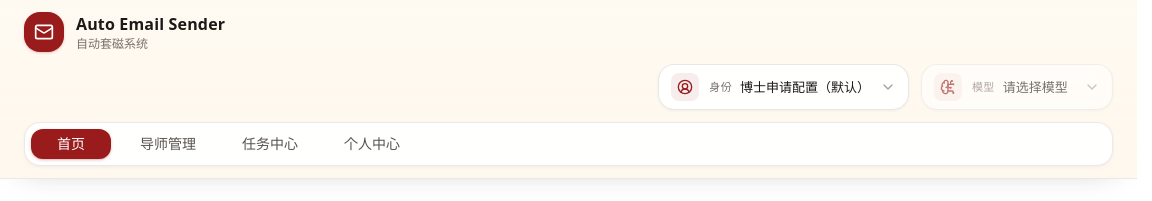
Test: TopNavBar identity labels › uses the profile name in the identity selector
The image size is (1152, 201).
Check: the text "博士申请配置（默认）" is shown, box top-left (740, 77), bottom-right (870, 97)
Click the button "身份 博士申请配置（默认）".
click(784, 87)  # box top-left (658, 64), bottom-right (909, 110)
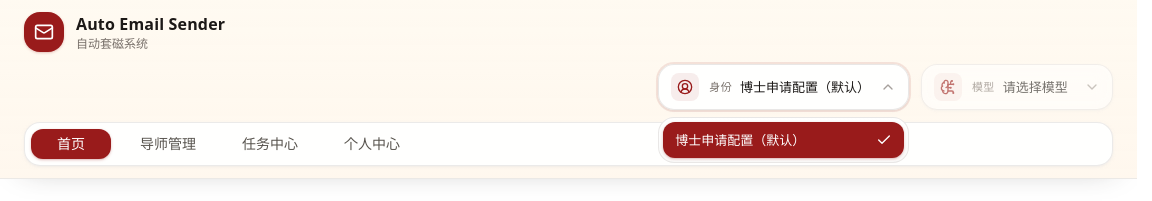
Check: the option "博士申请配置（默认）" is shown, box top-left (663, 122), bottom-right (904, 158)
